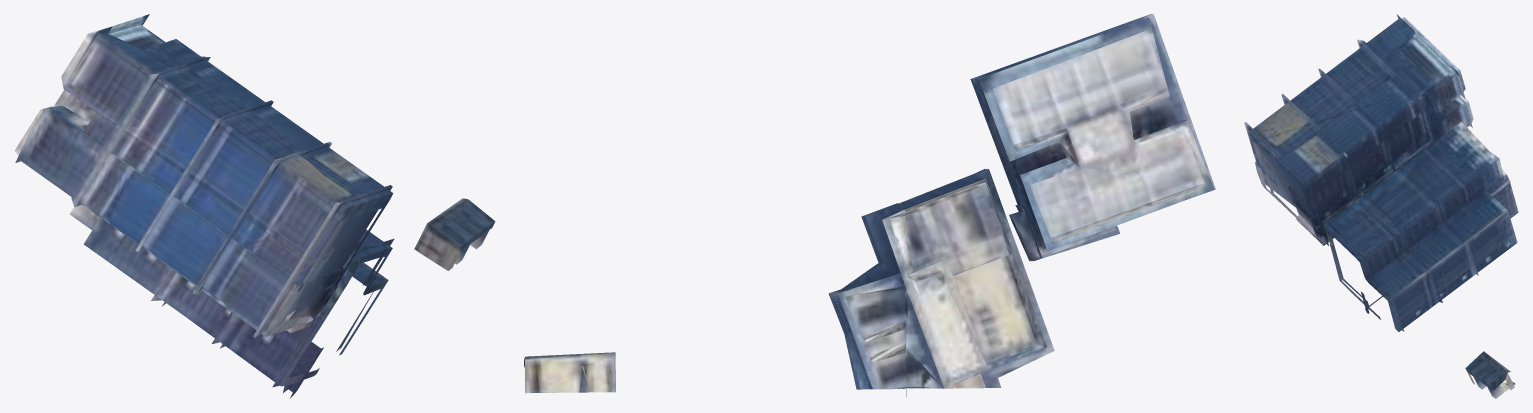
The picture shows the model from 3 angles, left to right: view 1: azimuth 30°, elevation 25°; view 2: azimuth 150°, elevation 25°; view 3: azimuth 270°, elevation 25°; orthographic projection. The views are drawn at different scales.
Size of the model in its own units: 132 by 91.1 by 91.64.
Materials: 2 (2 with a texture image).
